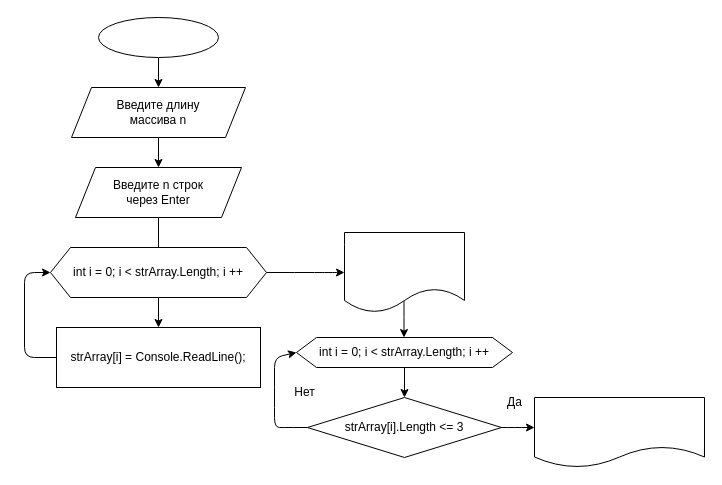
Some shapes in this 722 by 485 pixel diagram are drawn without their labels. The box of each missing label's shape, as (x1, y1, x2, y2) in pixels:
Вывод массива: (344, 232, 464, 312)
Вывод отсортированного массива: (534, 396, 704, 468)
Начало: (98, 16, 218, 58)
